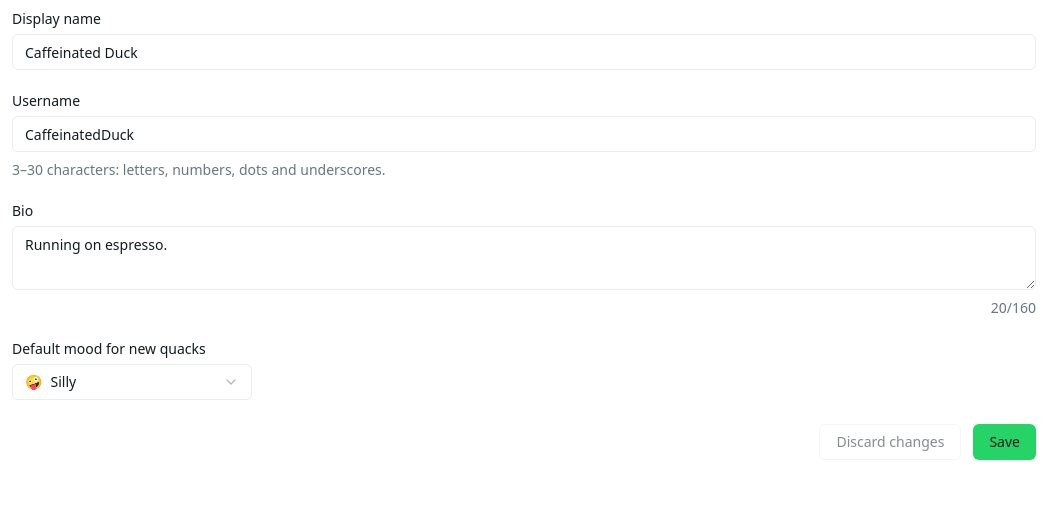
Test: ProfileForm › shows a taken username at its field and keeps what was typed
The width and height of the screenshot is (1048, 505).
Replace the text in the field labelled "Username" with "BreadCritic" at (524,134), box [12, 116, 1036, 152]
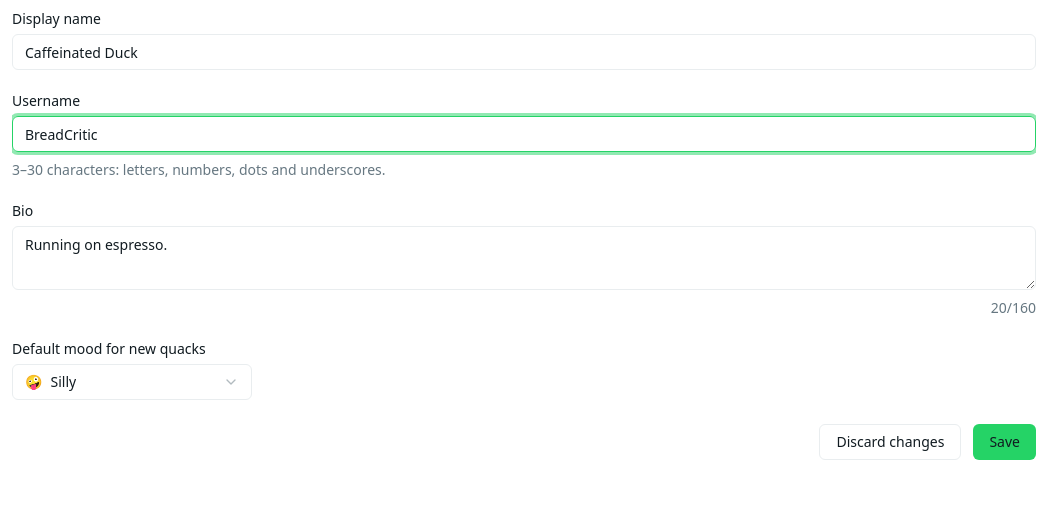
Click the button "Save" at (1005,442), box [973, 424, 1036, 460]
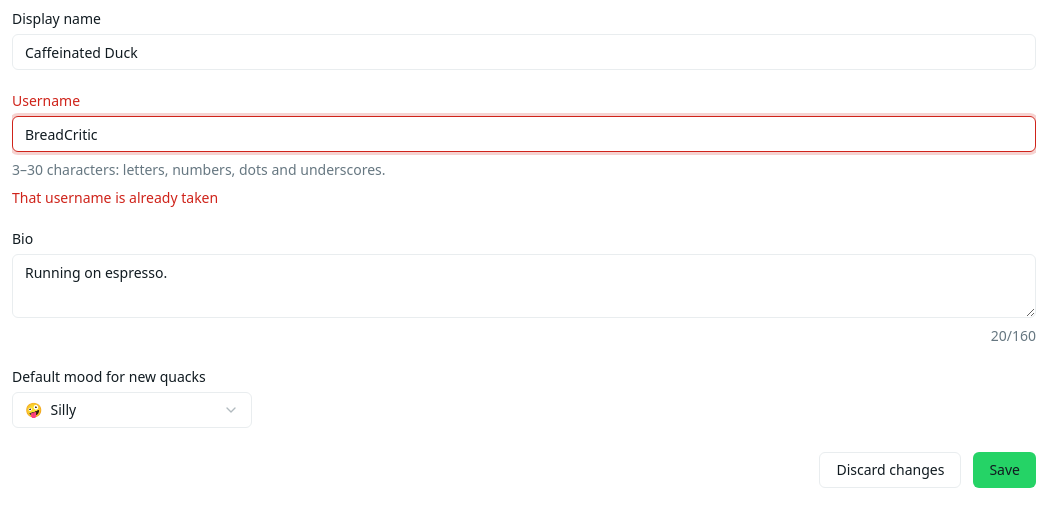
Expected: the text "That username is already taken" is shown, [12, 188, 218, 207]
